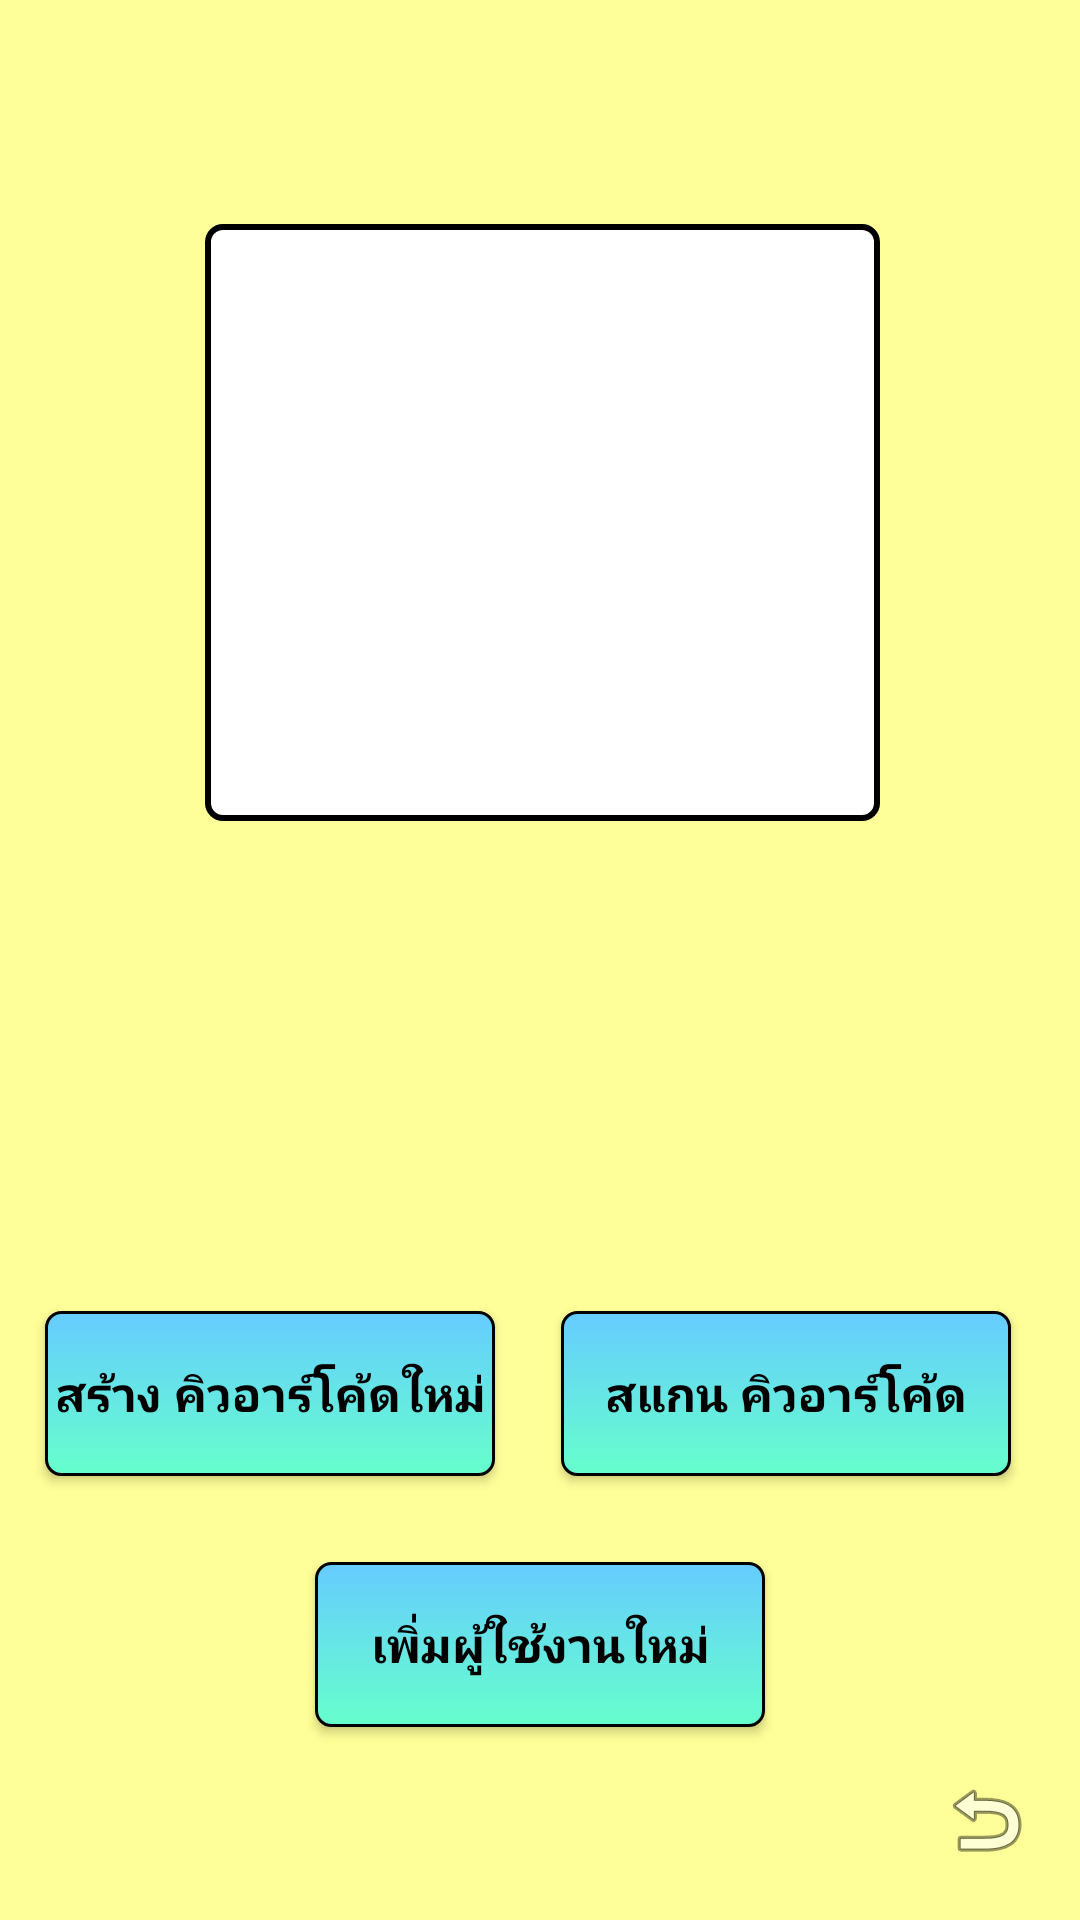

Where to tap for icons on this 1080x1920 app screen, as point (x, y):
revert: point (987, 1820)
